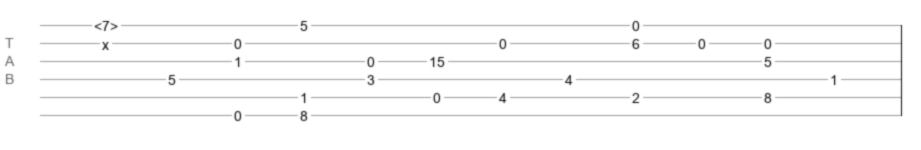0: (234, 36, 242, 46), (234, 108, 242, 118), (367, 54, 375, 64), (433, 90, 441, 100), (499, 36, 507, 46), (632, 18, 640, 28), (698, 36, 706, 46), (764, 36, 772, 46)
1: (234, 54, 242, 64), (300, 90, 308, 100), (830, 72, 838, 82)
15: (429, 54, 445, 64)
2: (632, 90, 640, 100)
3: (367, 72, 375, 82)
4: (499, 90, 507, 100), (565, 72, 573, 82)
5: (168, 72, 176, 82), (300, 18, 308, 28), (764, 54, 772, 64)
6: (632, 36, 640, 46)
8: (300, 108, 308, 118), (764, 90, 772, 100)
harmonic: (94, 18, 118, 28)
x: (102, 37, 109, 45)
